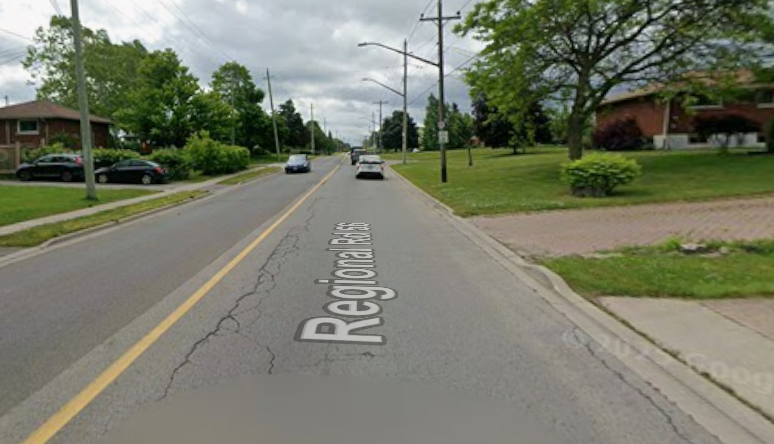cracks: (155, 218, 315, 402)
